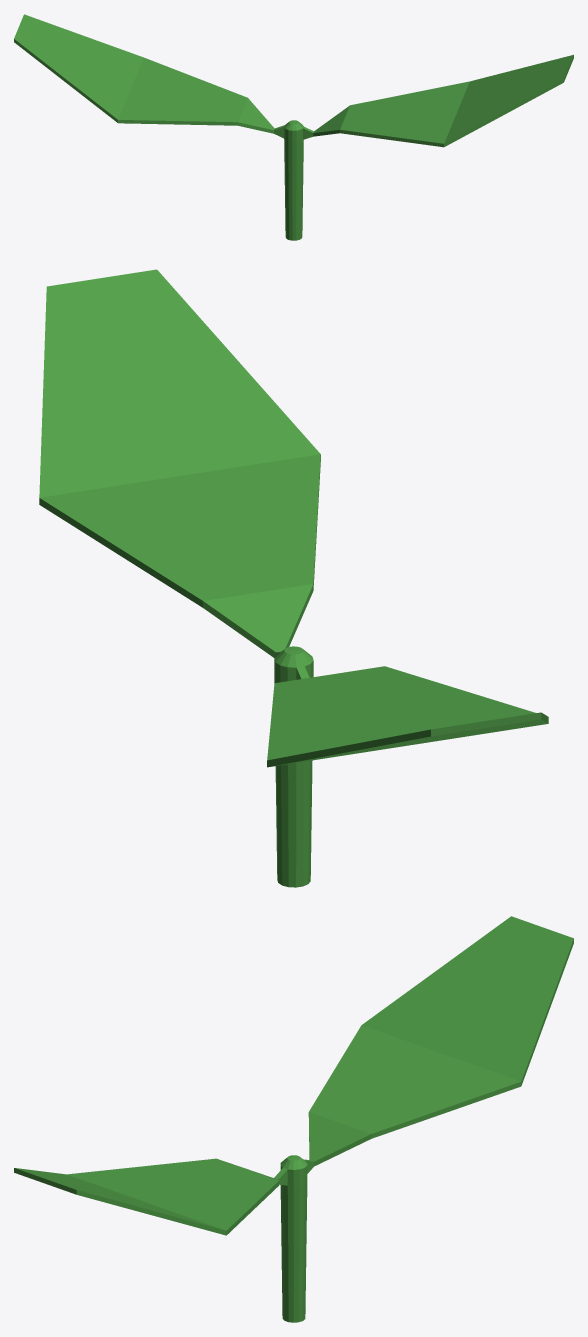
File: Animated_Seed_Leafes.fbx
3 renders of one model, top to bottom at view 1: azimuth 30°, elevation 25°; view 2: azimuth 150°, elevation 25°; view 3: azimuth 270°, elevation 25°, orthographic. The views are drawn at different scales.
Parts seen in each view (by area): view 1: Animated_Seed_Leafes; view 2: Animated_Seed_Leafes; view 3: Animated_Seed_Leafes.
Part boxes in pixels (box(x1,y1,x2,y2)): Animated_Seed_Leafes: box(14, 14, 573, 240); Animated_Seed_Leafes: box(39, 269, 548, 887); Animated_Seed_Leafes: box(14, 916, 573, 1322).
Bounding box in the file's own units: 230 × 104 × 199.
